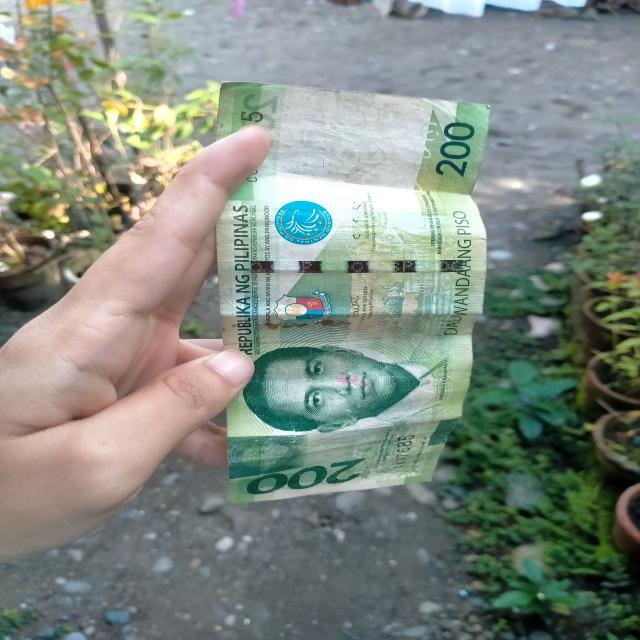concealed_value: (226, 434, 305, 477)
security_thread: (226, 258, 472, 274)
see_through_mark: (404, 122, 438, 200)
value: (248, 456, 371, 496)
